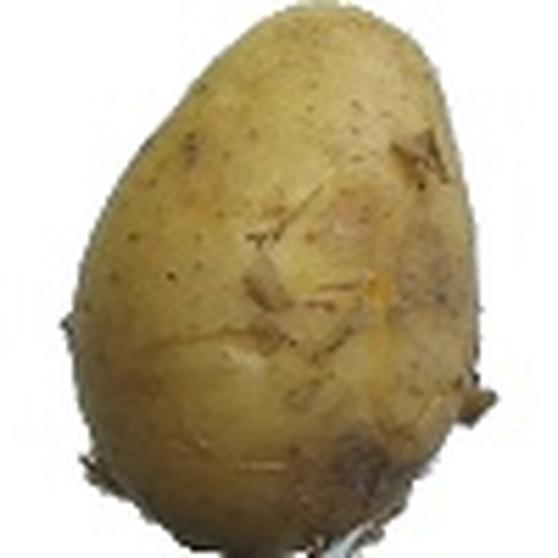potato: (55, 2, 508, 558)
